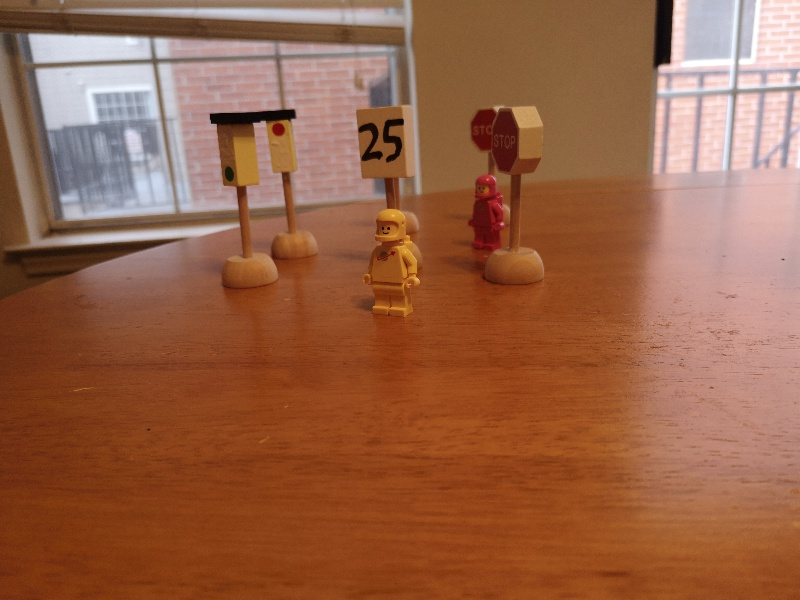Green Traffic Light: (206, 113, 263, 187)
Person: (362, 210, 419, 319), (469, 175, 506, 251)
Red Traffic Light: (263, 110, 301, 176)
Speed Limit 25: (354, 108, 419, 181)
Stop Sign: (484, 105, 544, 173), (469, 104, 501, 172)
